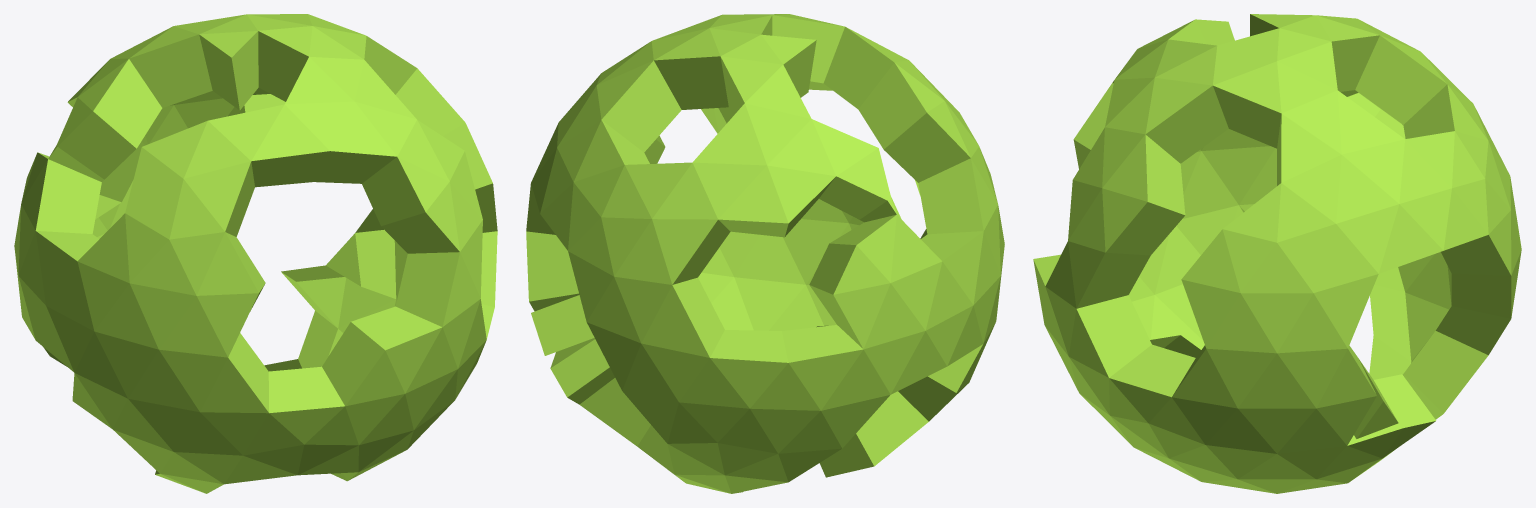
3 views of the same model, side by side, from view 1: azimuth 30°, elevation 25°; view 2: azimuth 150°, elevation 25°; view 3: azimuth 270°, elevation 25° (orthographic).
Visible parts, largest first — view 1: ERDE, ERDE.001; view 2: ERDE, ERDE.001; view 3: ERDE.
Part boxes in pixels (x1,y1,x2,y2): ERDE: (14,14,497,493); ERDE.001: (35,111,136,261); ERDE: (526,14,1004,493); ERDE.001: (884,113,983,261); ERDE: (1033,14,1521,493).
Bounding box in the file's own units: 2354 × 2351 × 2350.
